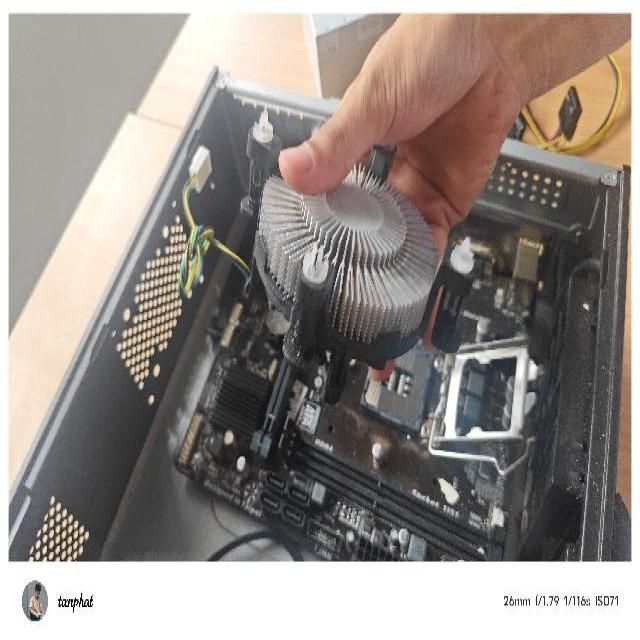CPU_Fan: (174, 102, 477, 375)
